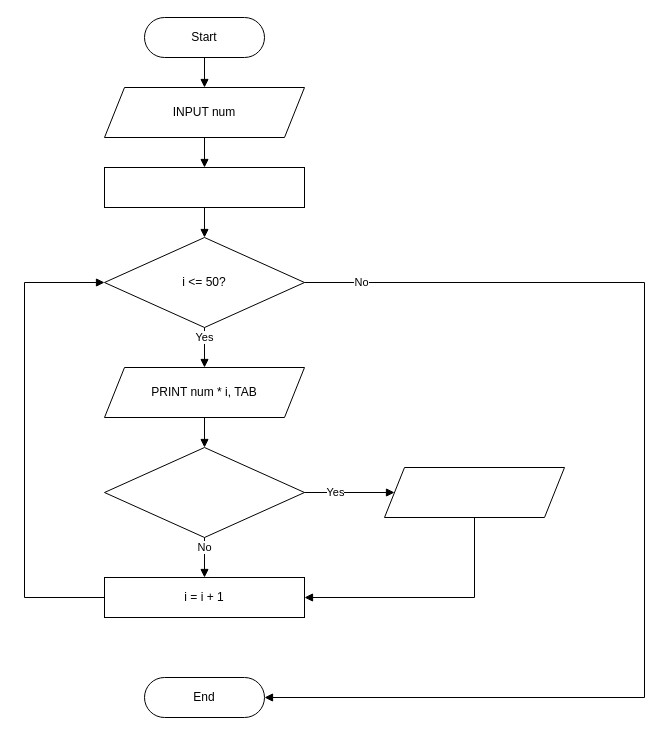
Some shapes in this 670 by 735 pixel diagram are drawn without their labels. The shapes that lost their labels are listed below. From the top down, each one's centre as x and y in pixels, then its label:
the point at 204,187: i = 1
the point at 204,492: i % 10 == 0?
the point at 474,492: PRINT newline
